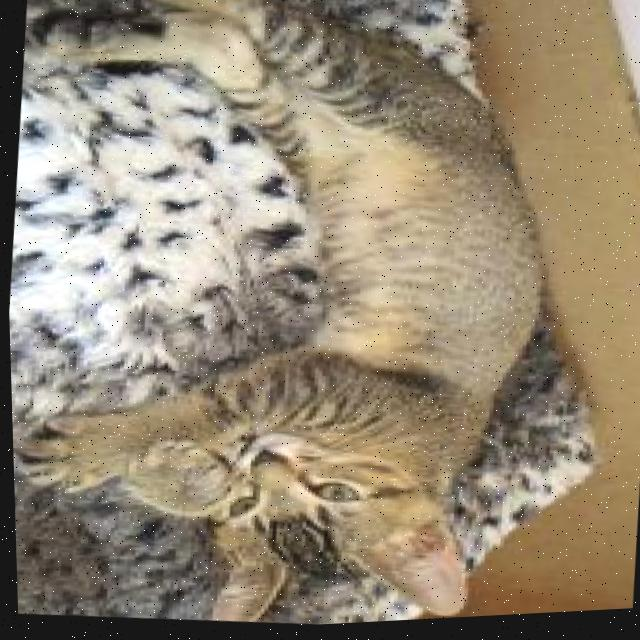Abyssinian: (0, 0, 582, 640)
